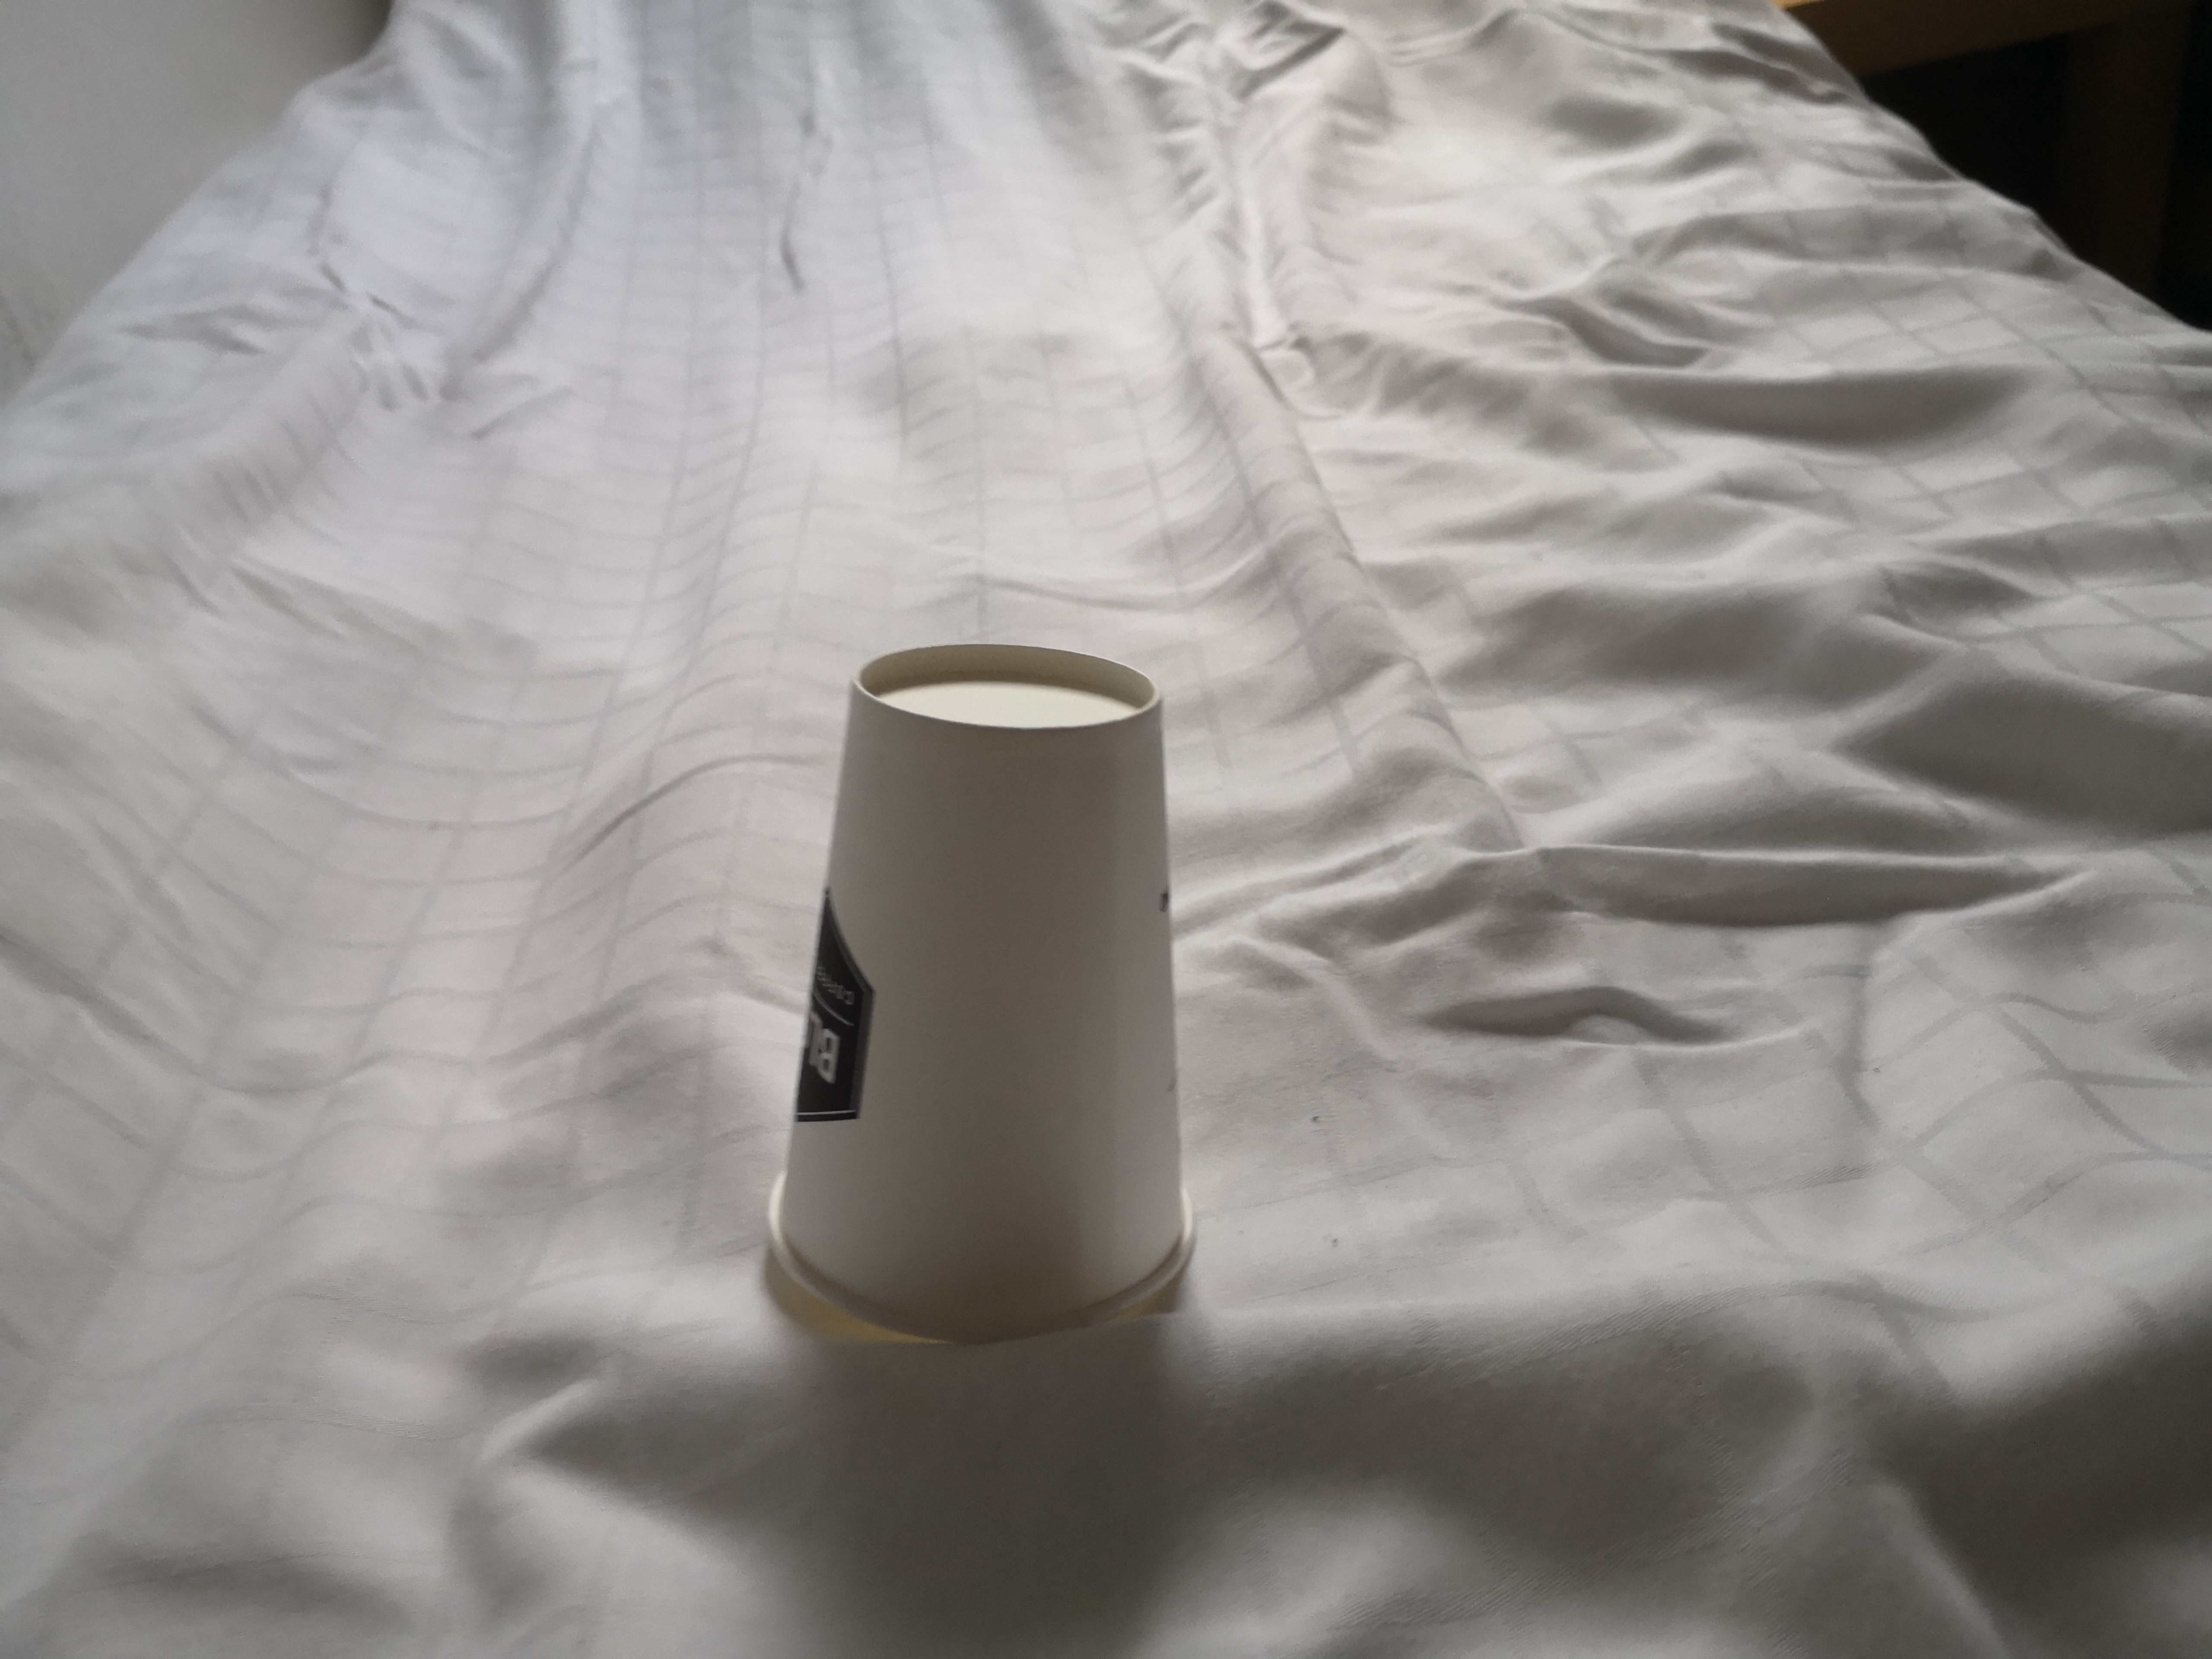cup: (752, 624, 1233, 1366)
